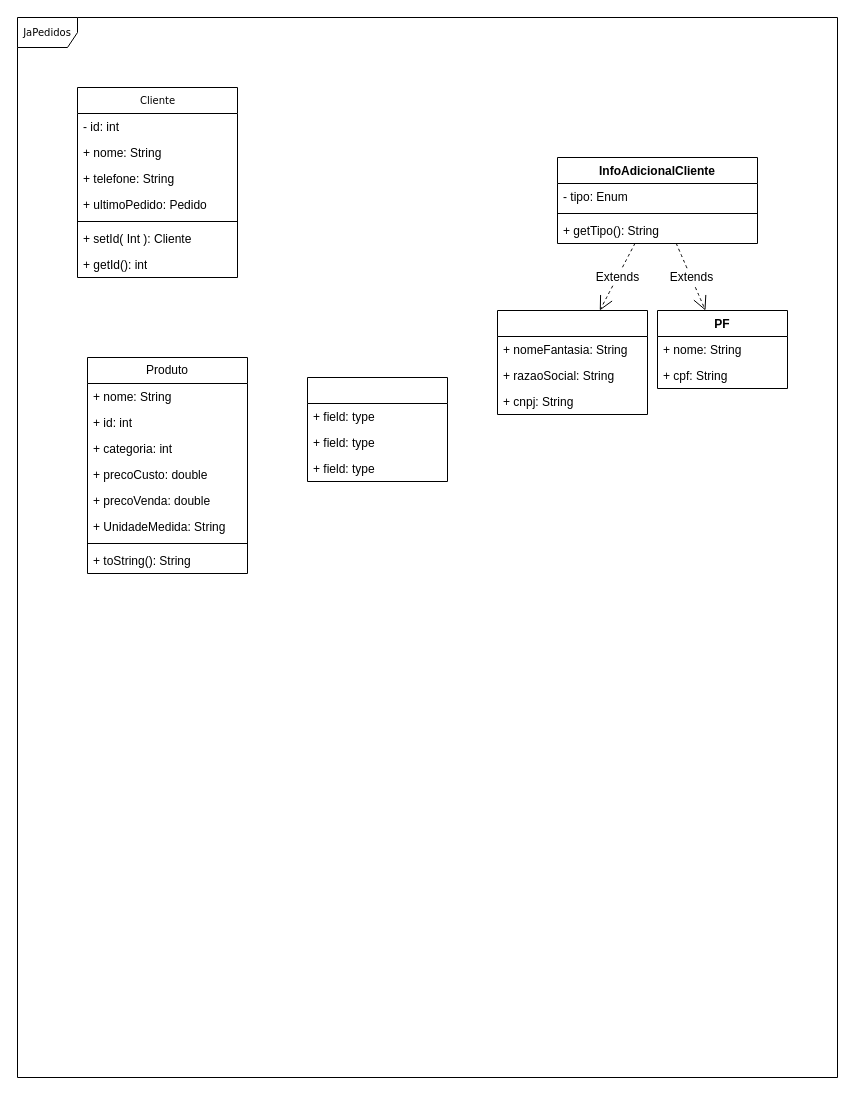
This 855x1095 diagram has some shape labels left out. Here are the shapes that lost their labels. From the top down, the box of each, then its label:
(496, 310, 648, 414): PJ
(306, 376, 448, 482): CategoriaProduto
